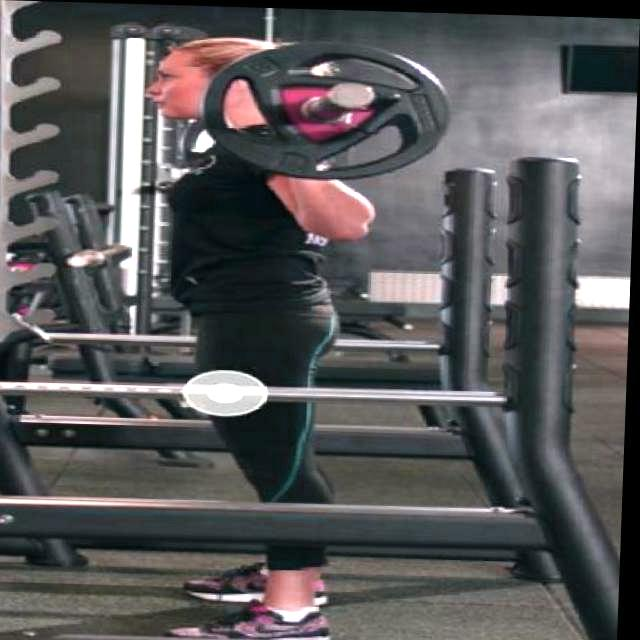barbell: (200, 32, 457, 186)
